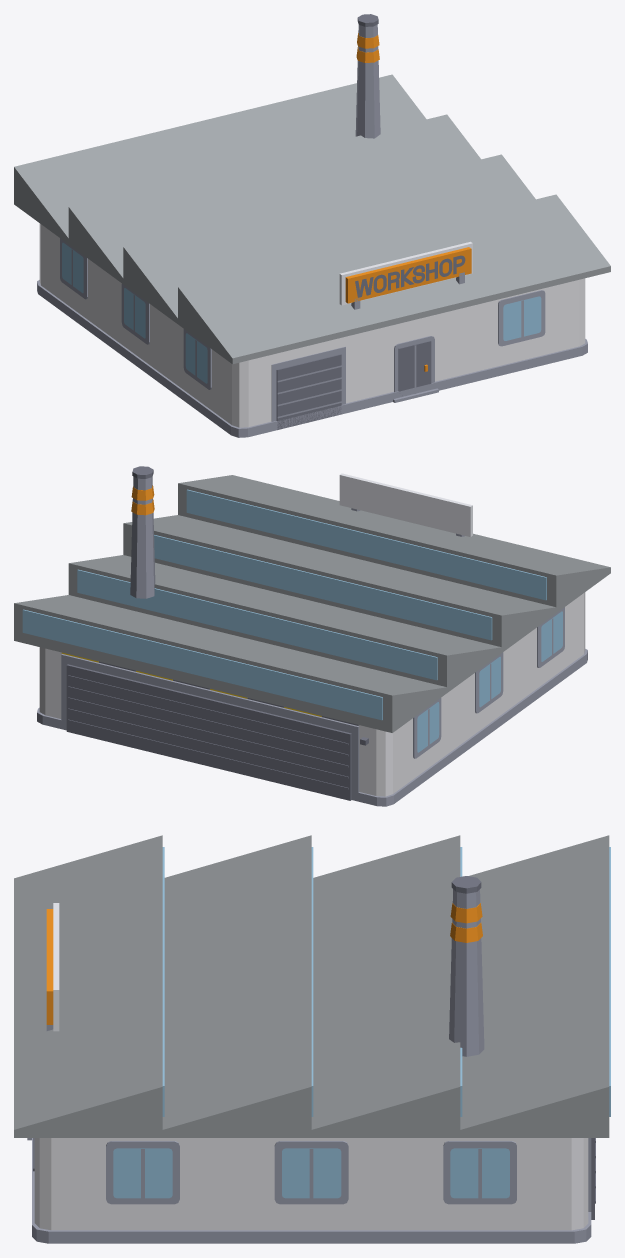
File: workshop-2x2-t1-tone-a.glb
3 views of the same model, one above another, from view 1: azimuth 30°, elevation 25°; view 2: azimuth 150°, elevation 25°; view 3: azimuth 270°, elevation 25° (orthographic). The views are drawn at different scales.
Visible parts, largest first — view 1: workshop-2x2-t1-tone-a; view 2: workshop-2x2-t1-tone-a; view 3: workshop-2x2-t1-tone-a.
Part boxes in pixels (bbox=[...]): workshop-2x2-t1-tone-a: bbox=[14, 14, 610, 437]; workshop-2x2-t1-tone-a: bbox=[14, 466, 610, 806]; workshop-2x2-t1-tone-a: bbox=[14, 835, 610, 1243].
Bounding box in the file's own units: 2 × 1.18 × 2.01.
Materials: 1 (1 with a texture image).
